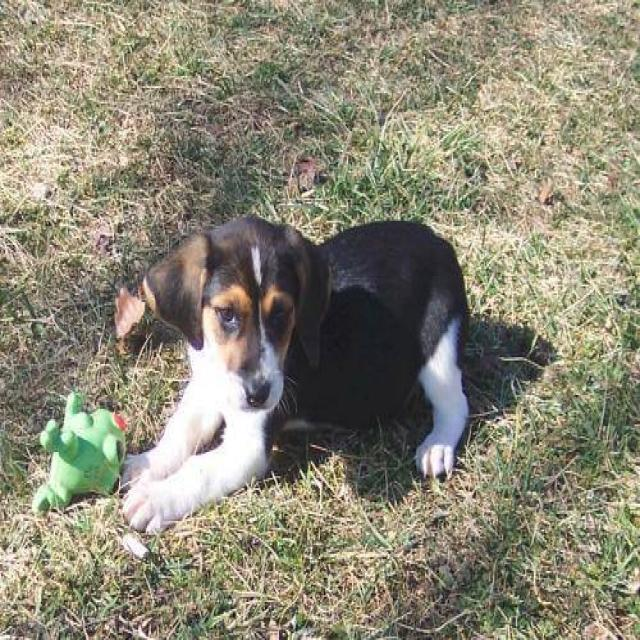dog: (114, 212, 470, 556)
